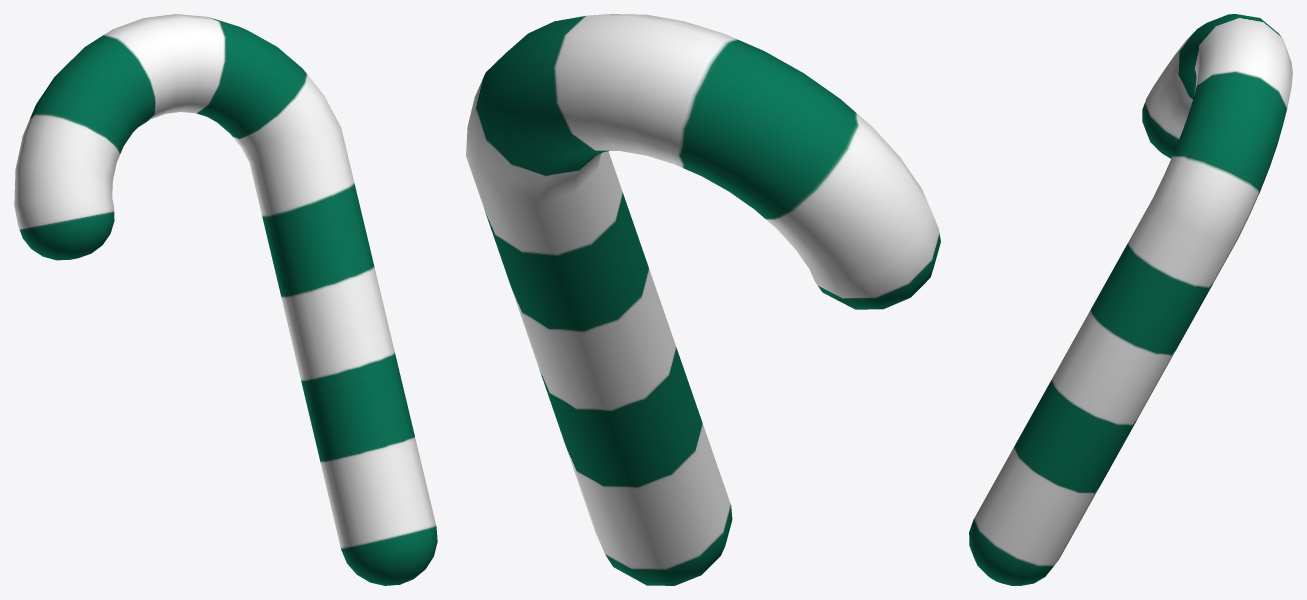
File: 拐杖绿.fbx
3 views of the same model, side by side, from view 1: azimuth 30°, elevation 25°; view 2: azimuth 150°, elevation 25°; view 3: azimuth 270°, elevation 25° (orthographic). The views are drawn at different scales.
Visible parts, largest first — view 1: 圆环.002; view 2: 圆环.002; view 3: 圆环.002.
Part boxes in pixels (box(x1,y1,x2,y2)): 圆环.002: box(14, 14, 437, 585); 圆环.002: box(466, 14, 940, 585); 圆环.002: box(969, 14, 1292, 585).
Size of the model in its own units: 52.79 by 79.48 by 47.26.
1 material, 1 textured.
